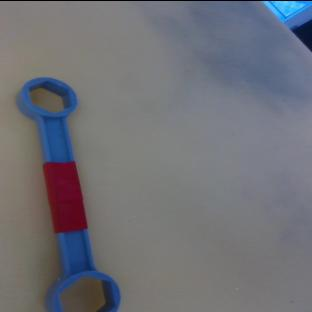part_3_good: (3, 69, 123, 312)
